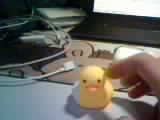duck: (61, 65, 109, 104)
